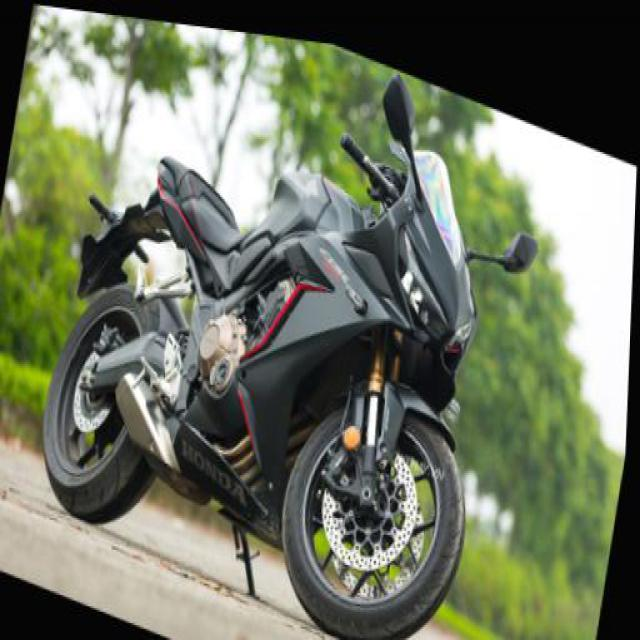CBR650R: (26, 4, 525, 638)
